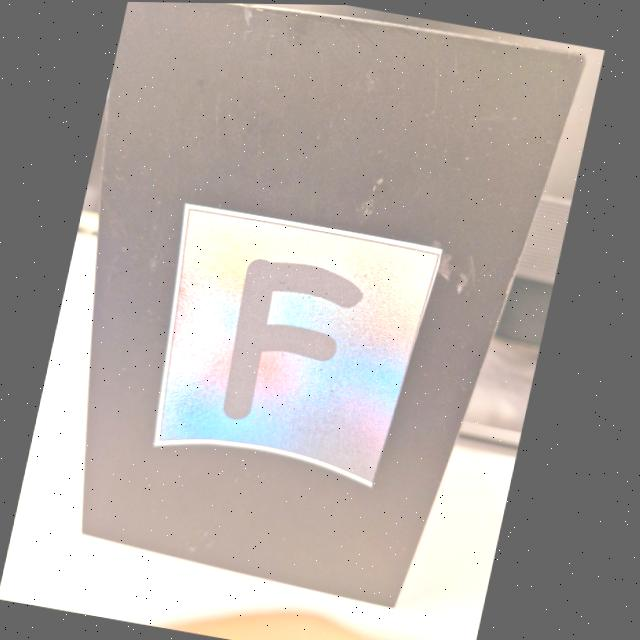F: (229, 258, 365, 419)
